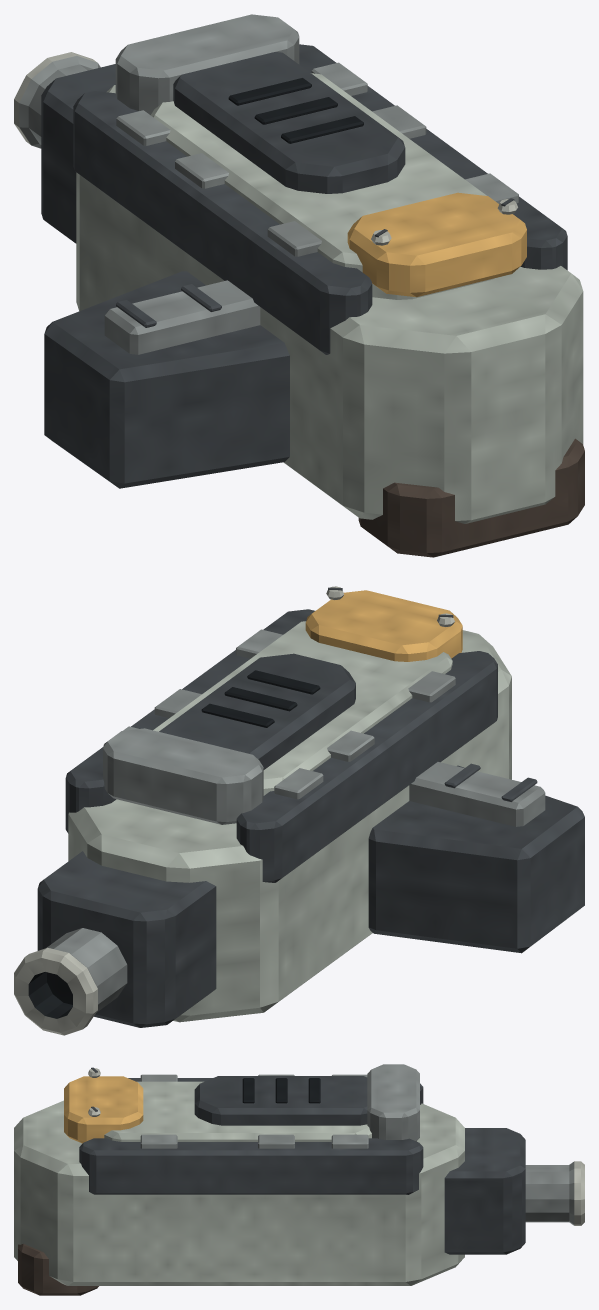
Rendered from SMG.glb.
3 renders of one model, top to bottom at view 1: azimuth 30°, elevation 25°; view 2: azimuth 150°, elevation 25°; view 3: azimuth 270°, elevation 25°, orthographic. The views are drawn at different scales.
Visible parts, largest first — view 1: Curved ceramic body, Robot mounting shoe, Charcoal frame rail, Smoked central cassette, Armored ceramic saddle, Rear champagne block, Rear lower brace, Steel shoulder link, Exposed rail adapter, Nose collar, Charcoal frame rail.001, Recessed barrel (+9 smaller); view 2: Curved ceramic body, Robot mounting shoe, Charcoal frame rail, Nose collar, Steel shoulder link, Smoked central cassette, Armored ceramic saddle, Recessed barrel, Rear champagne block, Exposed rail adapter, Charcoal frame rail.001, Raised steel rail washer.002 (+7 smaller); view 3: Curved ceramic body, Charcoal frame rail.001, Nose collar, Smoked central cassette, Armored ceramic saddle, Rear champagne block, Steel shoulder link, Recessed barrel, Rear lower brace, Raised steel rail washer.005, Raised steel rail washer.003, Raised steel rail washer.004 (+3 smaller).
Boxes of the visible parts, box(x1,y1,x2,y2) form: Curved ceramic body: box(76, 85, 583, 523); Robot mounting shoe: box(44, 271, 289, 488); Charcoal frame rail: box(73, 91, 372, 354); Smoked central cassette: box(173, 52, 405, 193); Armored ceramic saddle: box(150, 73, 494, 299); Rear champagne block: box(347, 192, 526, 297); Rear lower brace: box(358, 438, 584, 557); Steel shoulder link: box(115, 14, 299, 114); Exposed rail adapter: box(104, 280, 260, 354); Nose collar: box(41, 64, 115, 243); Charcoal frame rail.001: box(299, 44, 567, 270); Recessed barrel: box(14, 52, 100, 148); Curved ceramic body: box(68, 630, 511, 1022); Robot mounting shoe: box(368, 765, 584, 953); Charcoal frame rail: box(236, 651, 497, 882); Nose collar: box(37, 851, 216, 1027); Steel shoulder link: box(103, 728, 263, 824); Smoked central cassette: box(159, 653, 355, 769); Armored ceramic saddle: box(153, 621, 452, 795); Recessed barrel: box(14, 928, 127, 1035); Rear champagne block: box(305, 590, 462, 661); Exposed rail adapter: box(409, 762, 545, 826); Charcoal frame rail.001: box(65, 609, 314, 833); Raised steel rail washer.002: box(274, 768, 323, 799); Curved ceramic body: box(14, 1100, 464, 1285); Charcoal frame rail.001: box(79, 1138, 423, 1194); Nose collar: box(444, 1128, 525, 1254); Smoked central cassette: box(194, 1076, 367, 1125); Armored ceramic saddle: box(104, 1081, 371, 1141); Rear champagne block: box(64, 1076, 143, 1143); Steel shoulder link: box(367, 1064, 419, 1141); Recessed barrel: box(525, 1161, 584, 1225); Rear lower brace: box(18, 1243, 98, 1295); Raised steel rail washer.005: box(331, 1134, 368, 1148); Raised steel rail washer.003: box(140, 1134, 177, 1148); Raised steel rail washer.004: box(258, 1134, 294, 1148).
Bounding box in the file's own units: 0.1895 × 0.1275 × 0.3681.
Materials: 1 (1 with a texture image).
